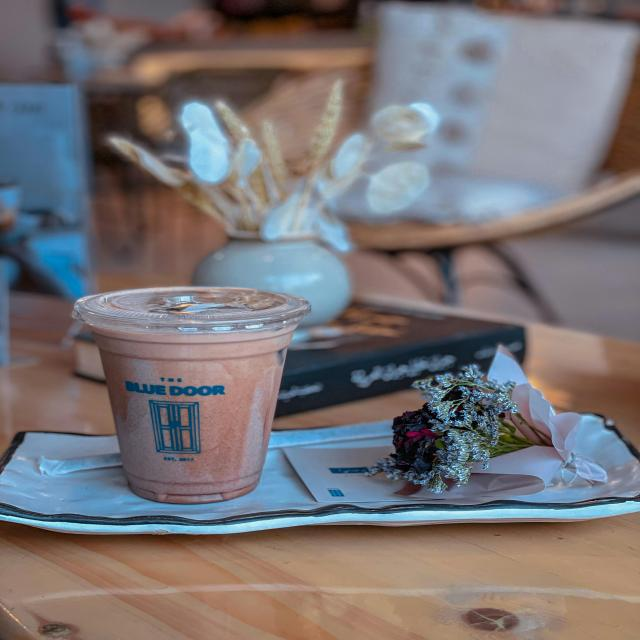cup: (66, 284, 311, 505)
